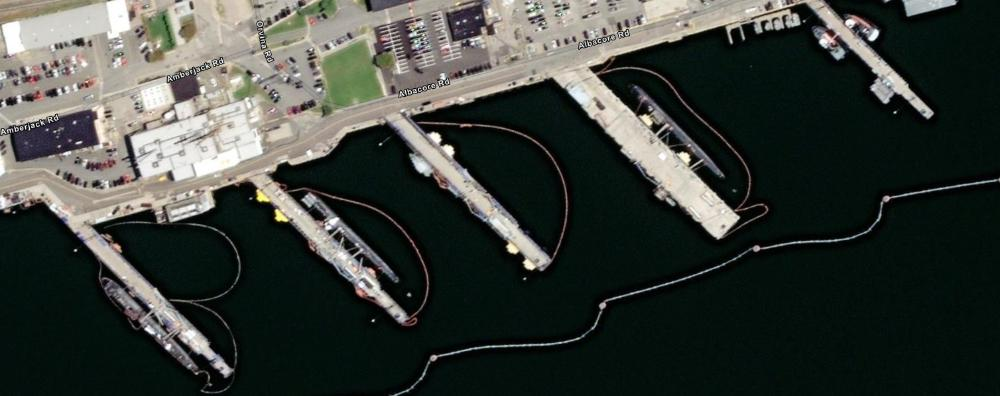submarine: (93, 274, 216, 386), (626, 80, 738, 189), (303, 190, 412, 302)
